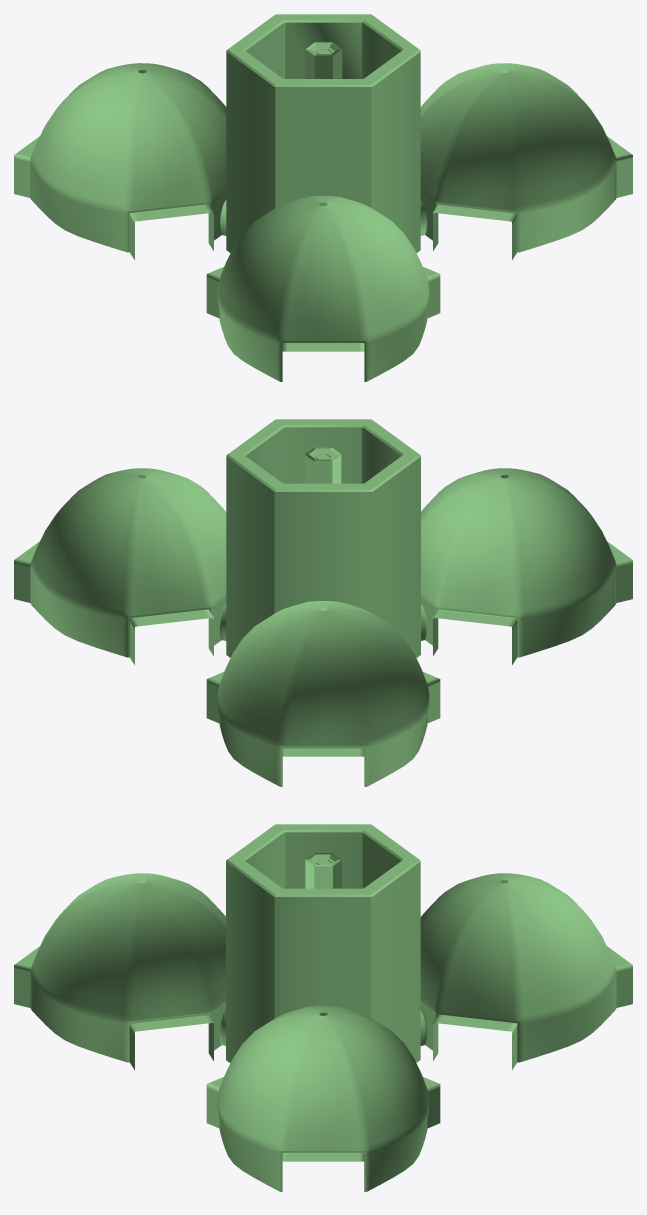
3 views of the same model, one above another, from view 1: azimuth 30°, elevation 25°; view 2: azimuth 150°, elevation 25°; view 3: azimuth 270°, elevation 25° (orthographic).
Visible parts, largest first — view 1: Object002; view 2: Object002; view 3: Object002.
Boxes of the visible parts, x1,y1,x2,y2 form: Object002: [14, 14, 632, 381]; Object002: [14, 419, 632, 786]; Object002: [14, 824, 632, 1191].
Size of the model in its own units: 13284 by 5405 by 15131.
